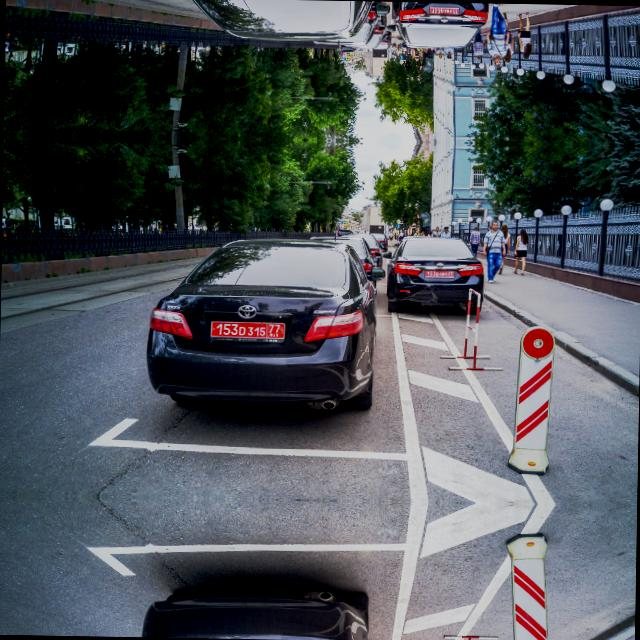diplomatic: (208, 317, 290, 345), (426, 4, 461, 16), (422, 266, 456, 278)
